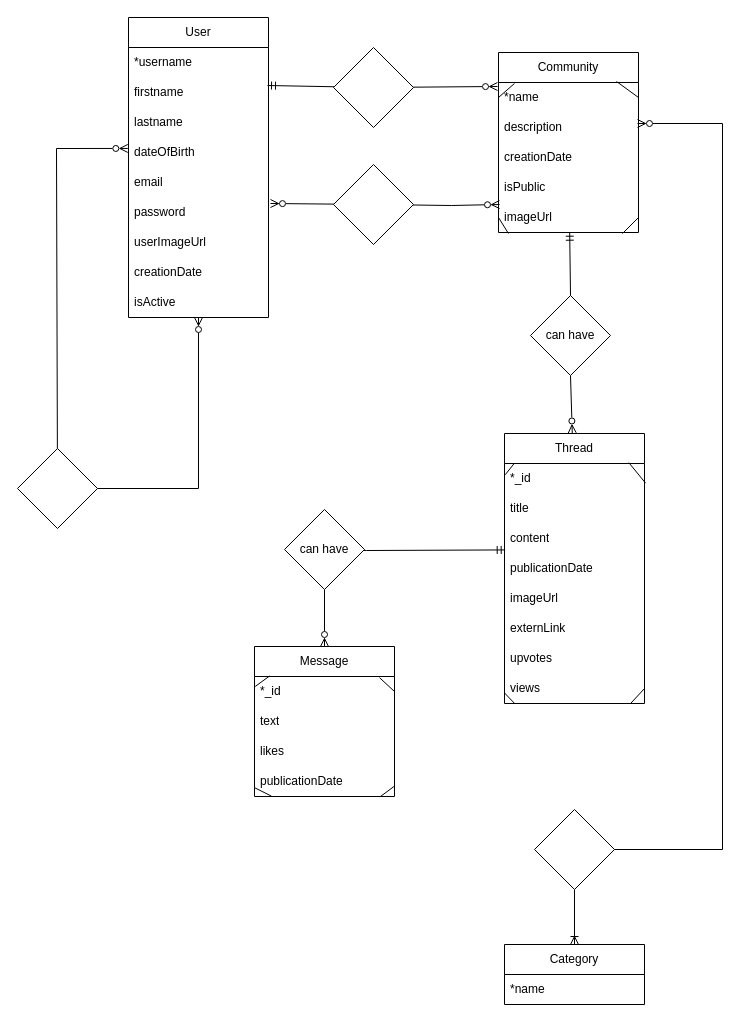
Image size: 748x1022. Some labels were removed from this diagram. Here are the shapes that lost their labels. From the top down, the centre of each, then its label:
point (373, 87): can create
point (373, 204): is part of
point (57, 488): can follow
point (574, 849): has
